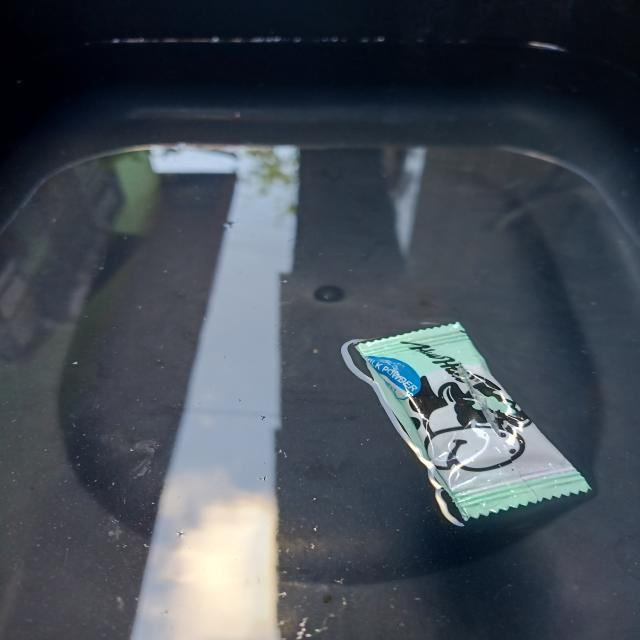Plastic Wrapper: (346, 323, 591, 526)
